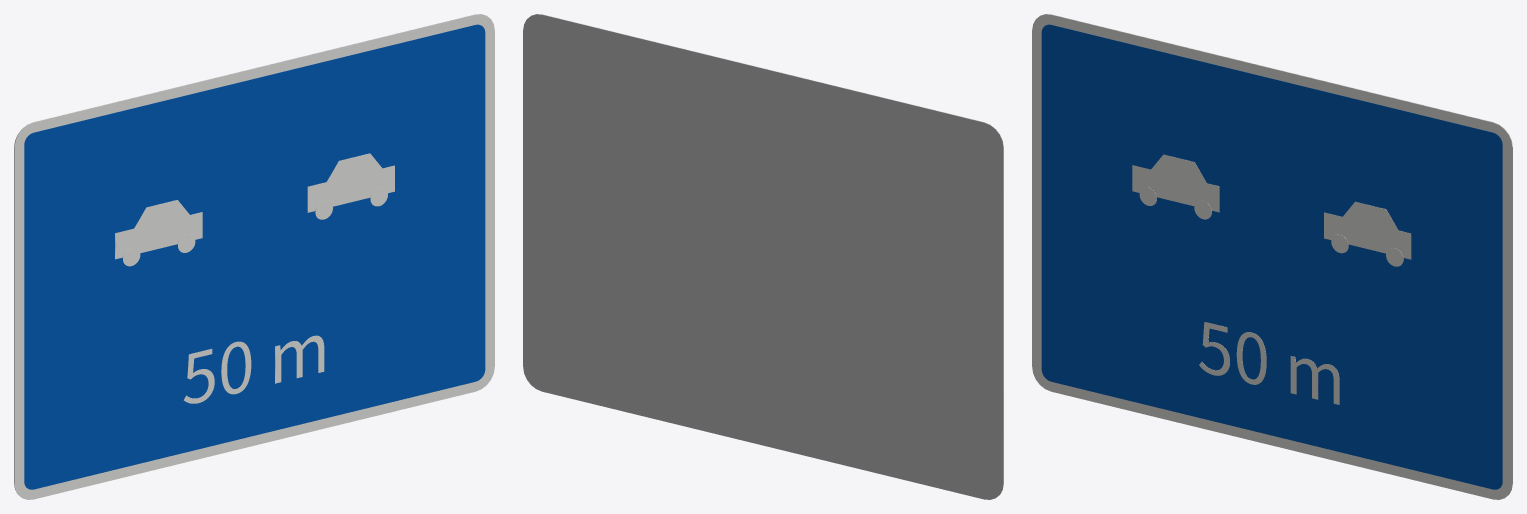
The picture shows the model from 3 angles, left to right: view 1: azimuth 30°, elevation 25°; view 2: azimuth 150°, elevation 25°; view 3: azimuth 330°, elevation 25°; orthographic projection.
Visible parts, largest first — view 1: SR52_r01, SR52_r00, SR52_txt10, SR52_p02, SR52_p06, SR52_p03, SR52_p07, SR52_dos; view 2: SR52_dos; view 3: SR52_r01, SR52_r00, SR52_txt10, SR52_p02, SR52_p06, SR52_p07, SR52_p03, SR52_dos.
Part boxes in pixels (x1,y1,x2,y2): SR52_r01: [24, 24, 485, 489]; SR52_r00: [14, 14, 494, 499]; SR52_txt10: [183, 335, 324, 403]; SR52_p02: [115, 212, 202, 259]; SR52_p06: [307, 165, 394, 212]; SR52_p03: [134, 200, 189, 228]; SR52_p07: [327, 153, 382, 181]; SR52_dos: [14, 14, 483, 493]; SR52_dos: [523, 14, 1003, 499]; SR52_r01: [1041, 24, 1502, 489]; SR52_r00: [1032, 14, 1512, 499]; SR52_txt10: [1199, 322, 1339, 404]; SR52_p02: [1132, 165, 1219, 212]; SR52_p06: [1324, 212, 1411, 259]; SR52_p07: [1343, 201, 1398, 230]; SR52_p03: [1151, 154, 1206, 183]; SR52_dos: [1043, 14, 1512, 493].
Bounding box in the file's own units: 1 × 0.75 × 0.0057.
